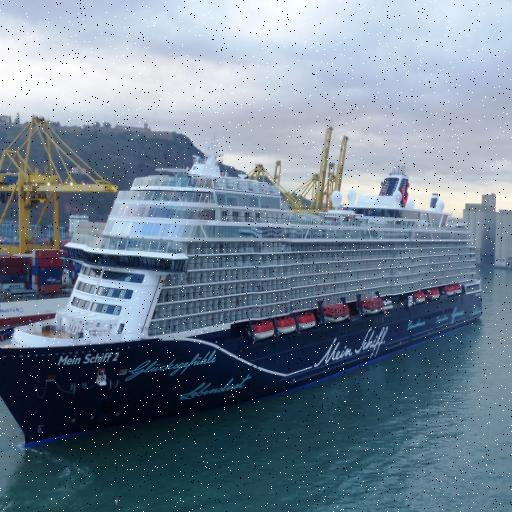cruises: (1, 131, 491, 451)
